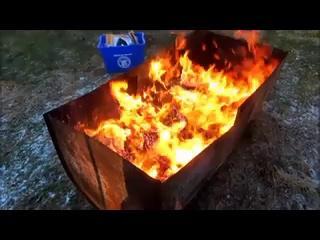fire: (95, 31, 271, 182)
